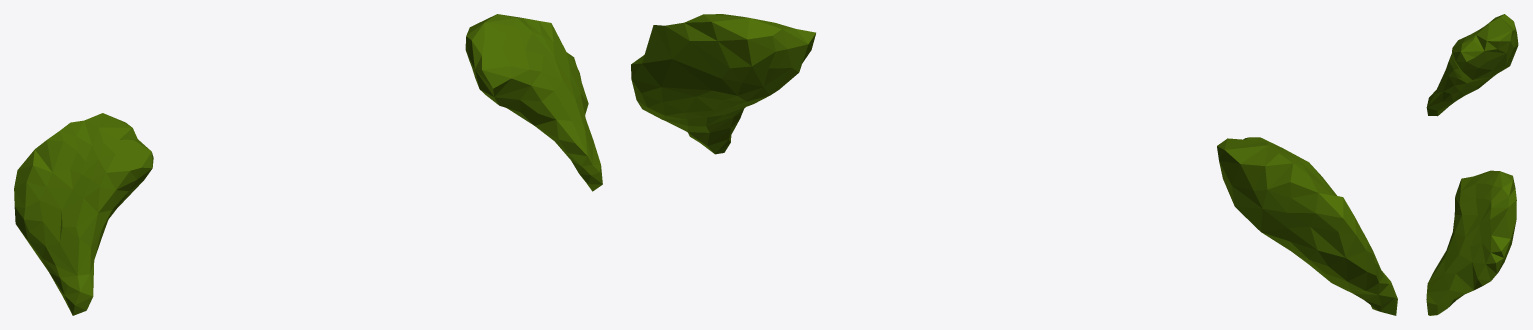
File: 163-ProST-prostriate area-('0.3451', '0.4980', '0.0000').obj
3 renders of one model, left to right at view 1: azimuth 30°, elevation 25°; view 2: azimuth 150°, elevation 25°; view 3: azimuth 270°, elevation 25°, orthographic. The views are drawn at different scales.
Bounding box in the file's own units: 136 × 34.84 × 24.16.
